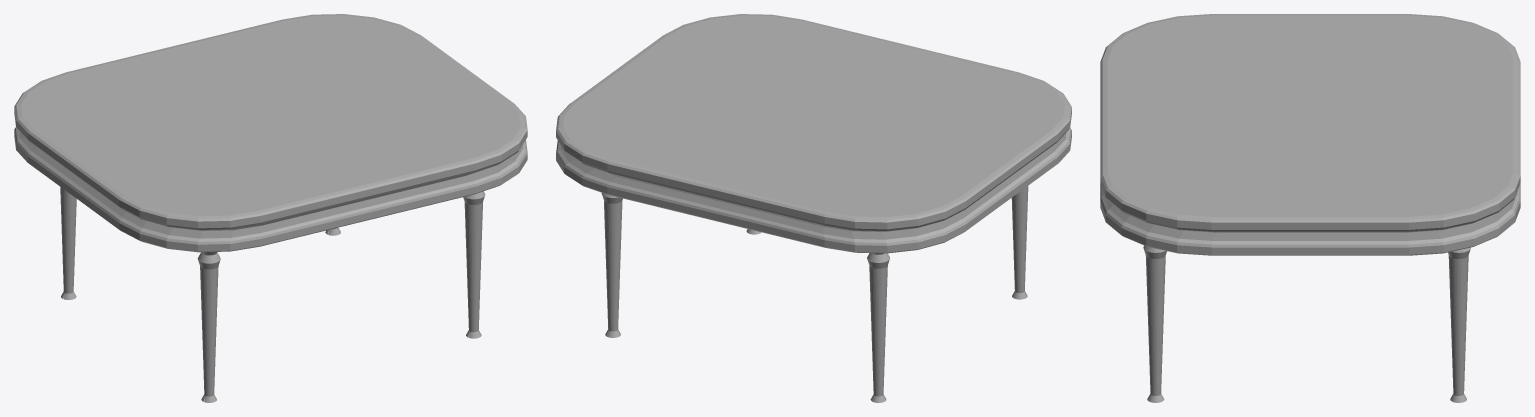
Rendered from Masa.fbx.
3 views of the same model, side by side, from view 1: azimuth 30°, elevation 25°; view 2: azimuth 150°, elevation 25°; view 3: azimuth 270°, elevation 25° (orthographic). The views are drawn at different scales.
Parts seen in each view (by area): view 1: Masa; view 2: Masa; view 3: Masa.
Part boxes in pixels (x1,y1,x2,y2): Masa: (14,14,527,402); Masa: (556,14,1071,402); Masa: (1100,14,1520,402).
Bounding box in the file's own units: 2.34 × 1.13 × 2.
